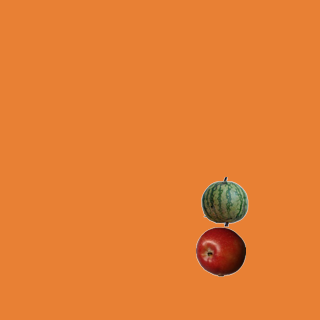Apple Braeburn: (195, 226, 245, 276)
Watermelon: (199, 176, 249, 226)
